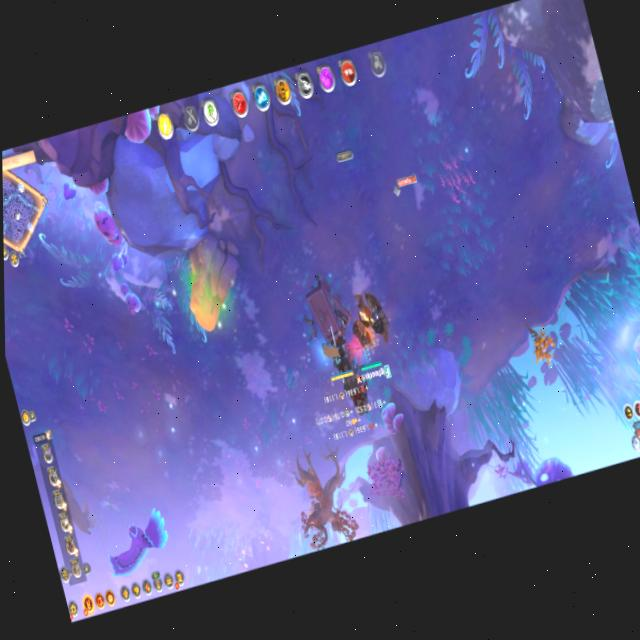hide: (519, 312, 564, 373)
ore: (274, 421, 368, 558), (95, 497, 181, 588), (333, 346, 378, 426), (347, 282, 395, 348)
red: (342, 313, 392, 392), (312, 318, 356, 387)
tree: (166, 219, 260, 354)
